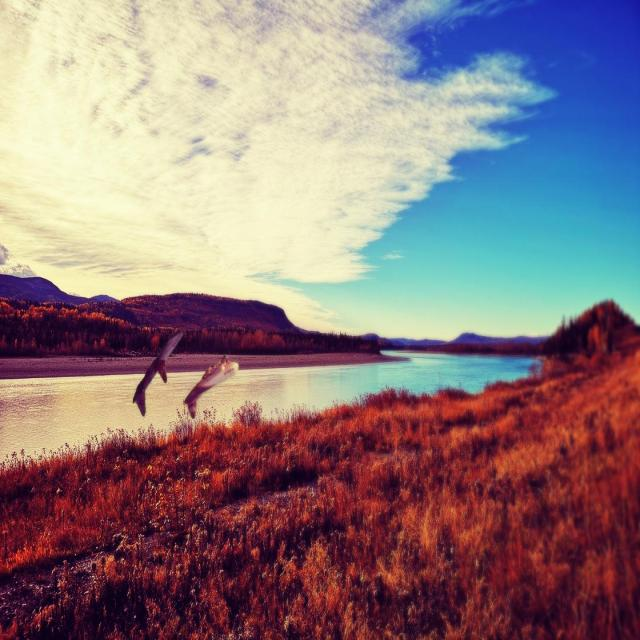airplane: (132, 331, 183, 416), (182, 354, 239, 418)
